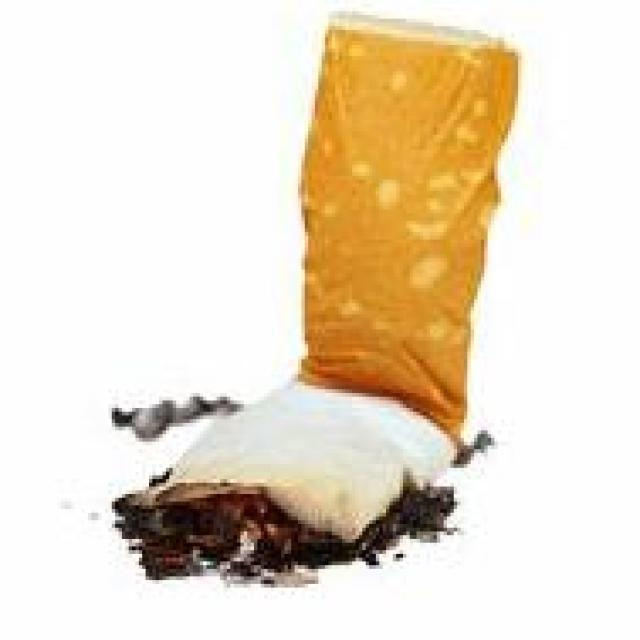-Other waste - cigarette butt-: (304, 10, 520, 422), (110, 391, 455, 563)
